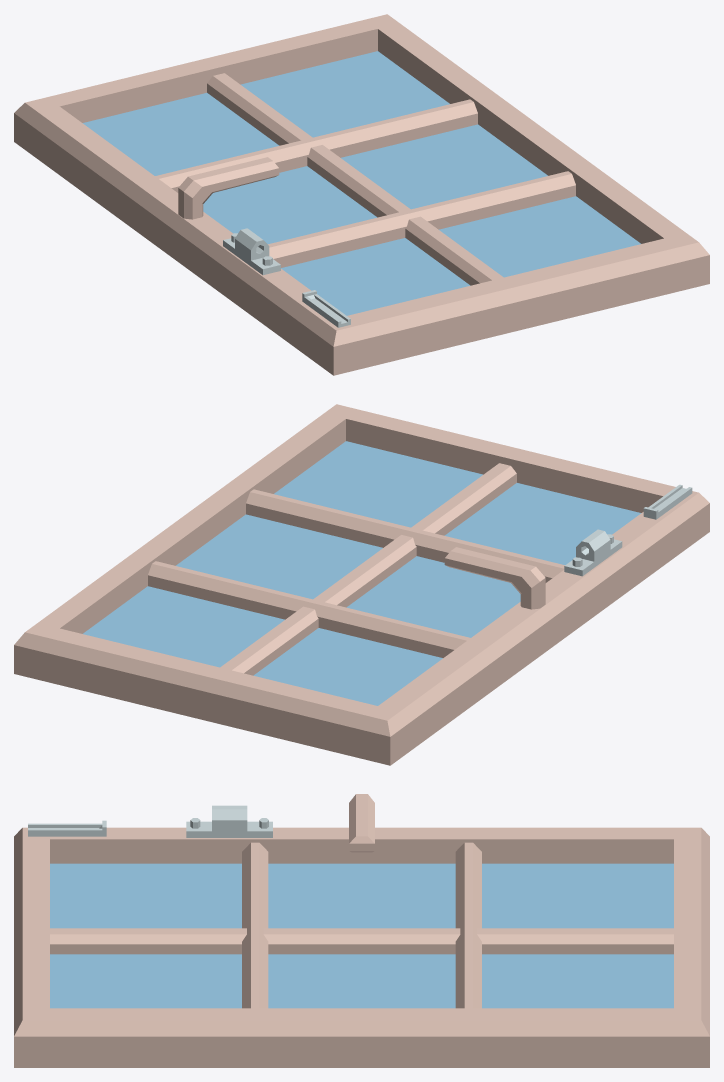
File: SM_Window.fbx
The picture shows the model from 3 angles, top to bottom: view 1: azimuth 30°, elevation 25°; view 2: azimuth 150°, elevation 25°; view 3: azimuth 270°, elevation 25°; orthographic projection. The views are drawn at different scales.
Visible parts, largest first — view 1: SM_Window; view 2: SM_Window; view 3: SM_Window.
Boxes of the visible parts, x1,y1,x2,y2 form: SM_Window: (14,14,709,375); SM_Window: (14,404,709,765); SM_Window: (14,794,709,1067).
Size of the model in its own units: 0.5385 by 0.1041 by 0.7917.
